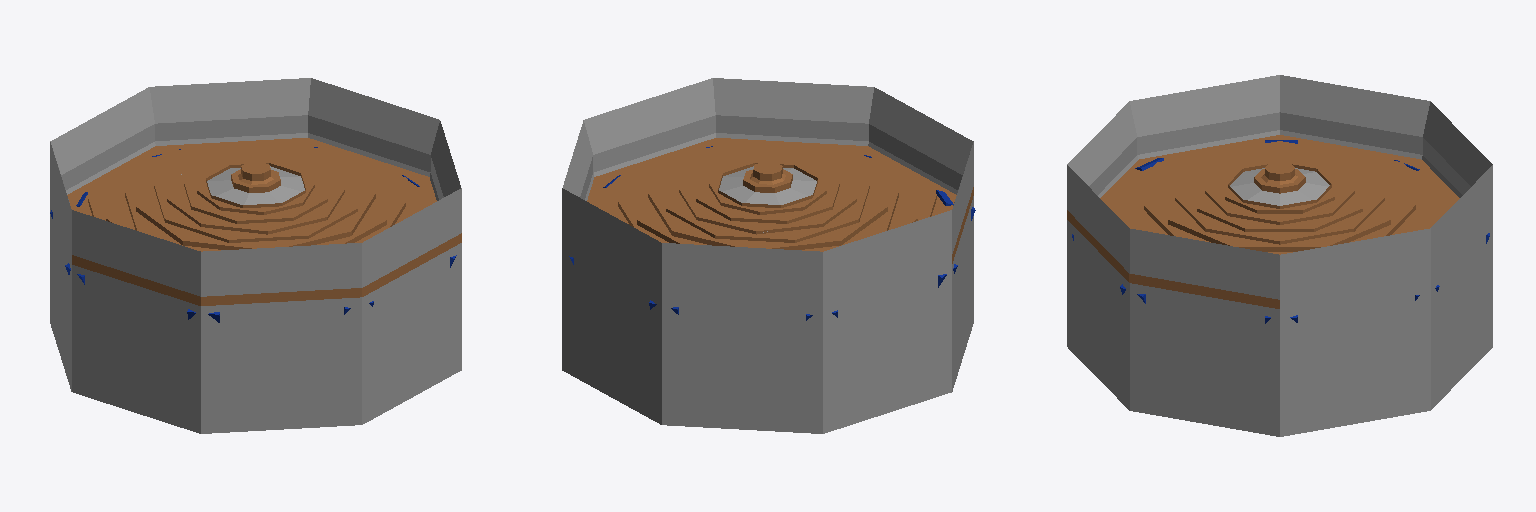
The model's file is budokan.obj.
3 renders of one model, left to right at view 1: azimuth 30°, elevation 25°; view 2: azimuth 150°, elevation 25°; view 3: azimuth 270°, elevation 25°, orthographic.
Parts seen in each view (by area): view 1: Circle, Circle.001_Circle.002; view 2: Circle, Circle.001_Circle.002; view 3: Circle, Circle.001_Circle.002.
Part boxes in pixels (left/top/right/bottom): Circle: left=50, top=78, right=461, bottom=433; Circle.001_Circle.002: left=67, top=138, right=461, bottom=305; Circle: left=562, top=78, right=973, bottom=433; Circle.001_Circle.002: left=587, top=138, right=973, bottom=263; Circle: left=1067, top=75, right=1492, bottom=436; Circle.001_Circle.002: left=1067, top=135, right=1459, bottom=308.
Size of the model in its own units: 60 by 28.38 by 60.02.